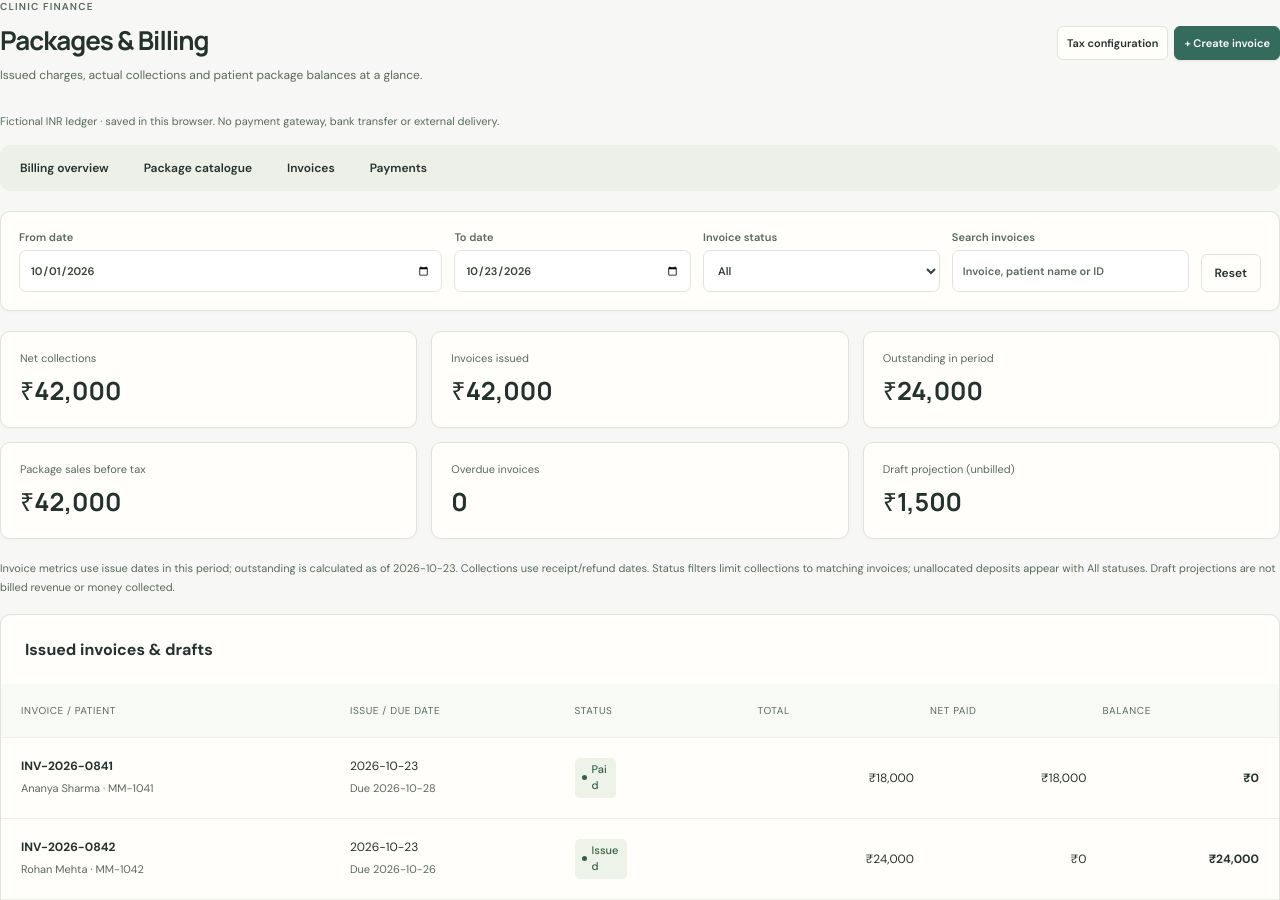
Test: finance workspace UI › updates finance totals and invoice rows from date/status filters
Expected: the text "₹42,000" below "Net collections" is shown, [20,374,121,408]
Type "2026-10-22" into the date field named "Finance to date" at (573, 272), box [454,250,691,292]
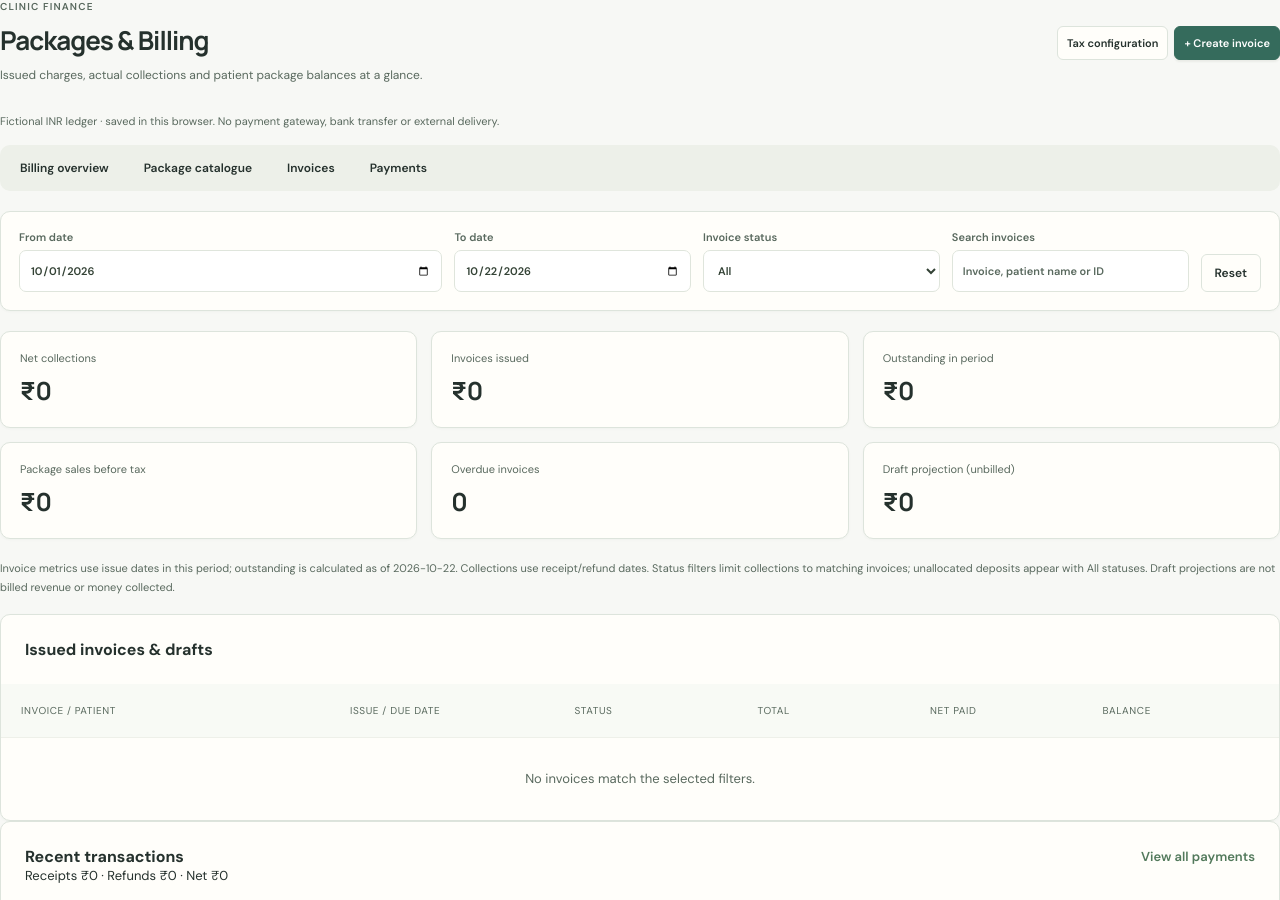
Expected: the link "INV-2026-0841" is gone
Expected: the text "No invoices match the selected filters." is shown, [525,770,755,787]
Click the button "Reset" at (1231, 274), box [1200,254,1261,292]
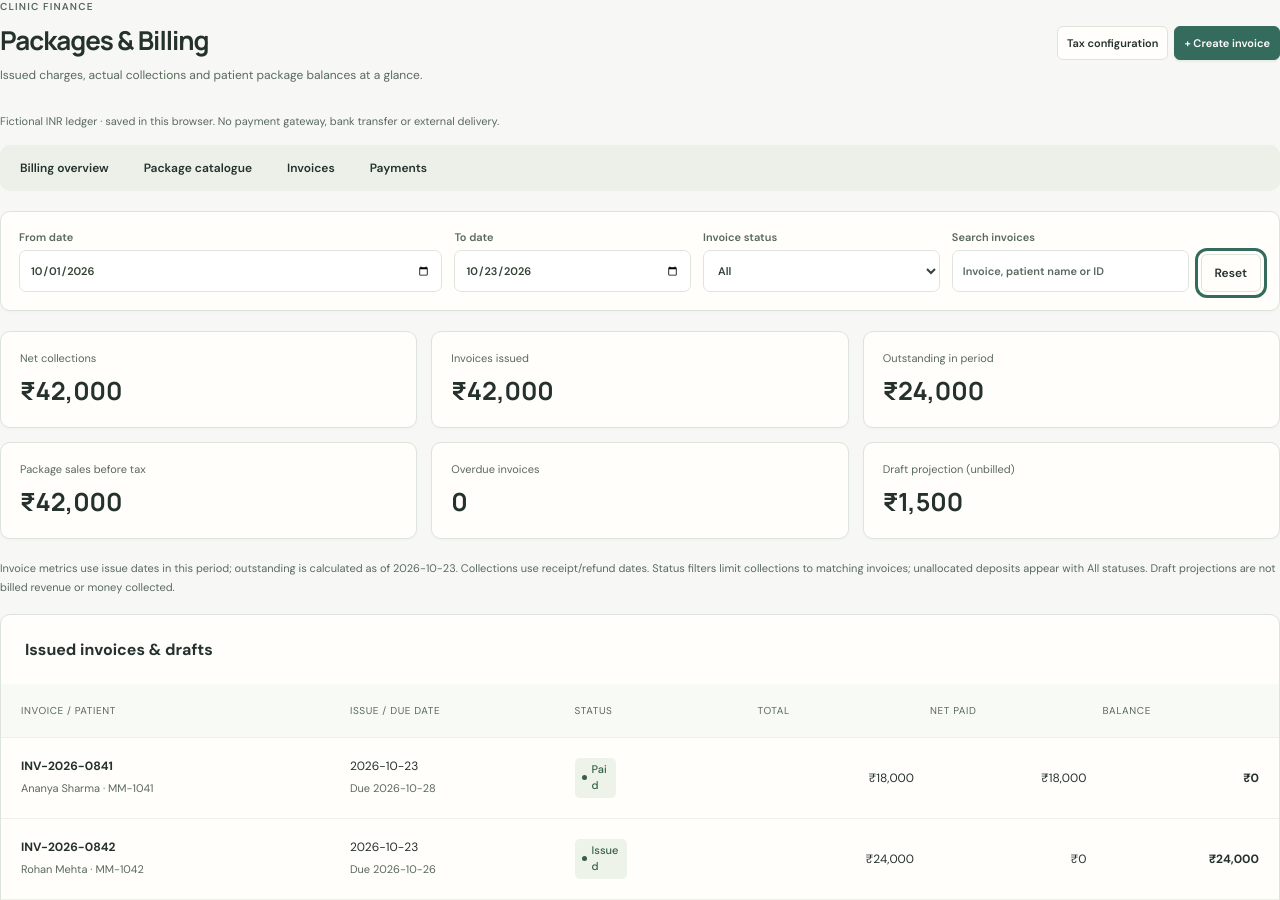
Select "Draft" in the dropdown named "Finance invoice status" at (821, 272), box [703,250,940,292]
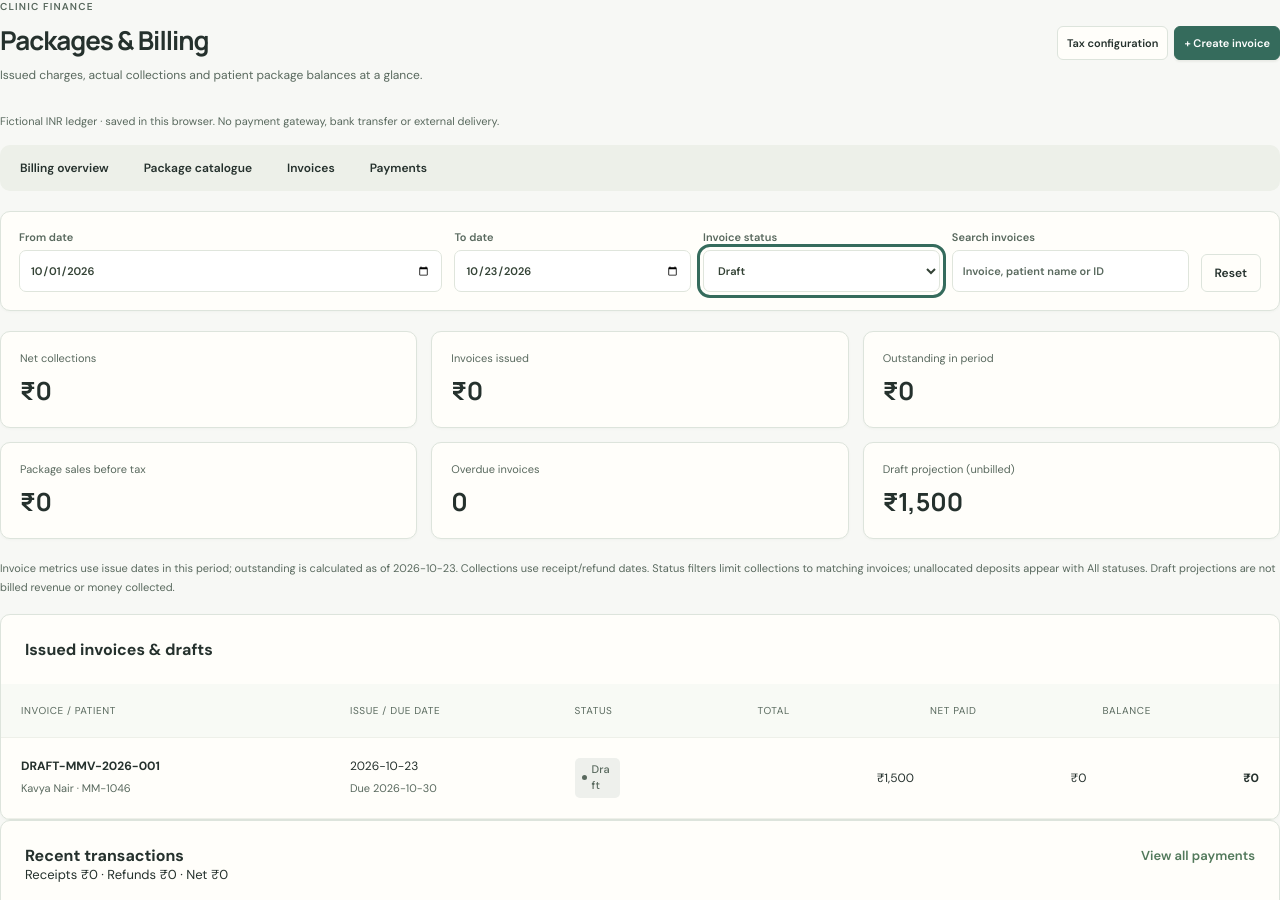
Expected: the text "DRAFT-MMV-2026-001" is shown, [21,758,160,774]
Expected: the link "INV-2026-0841" is gone
